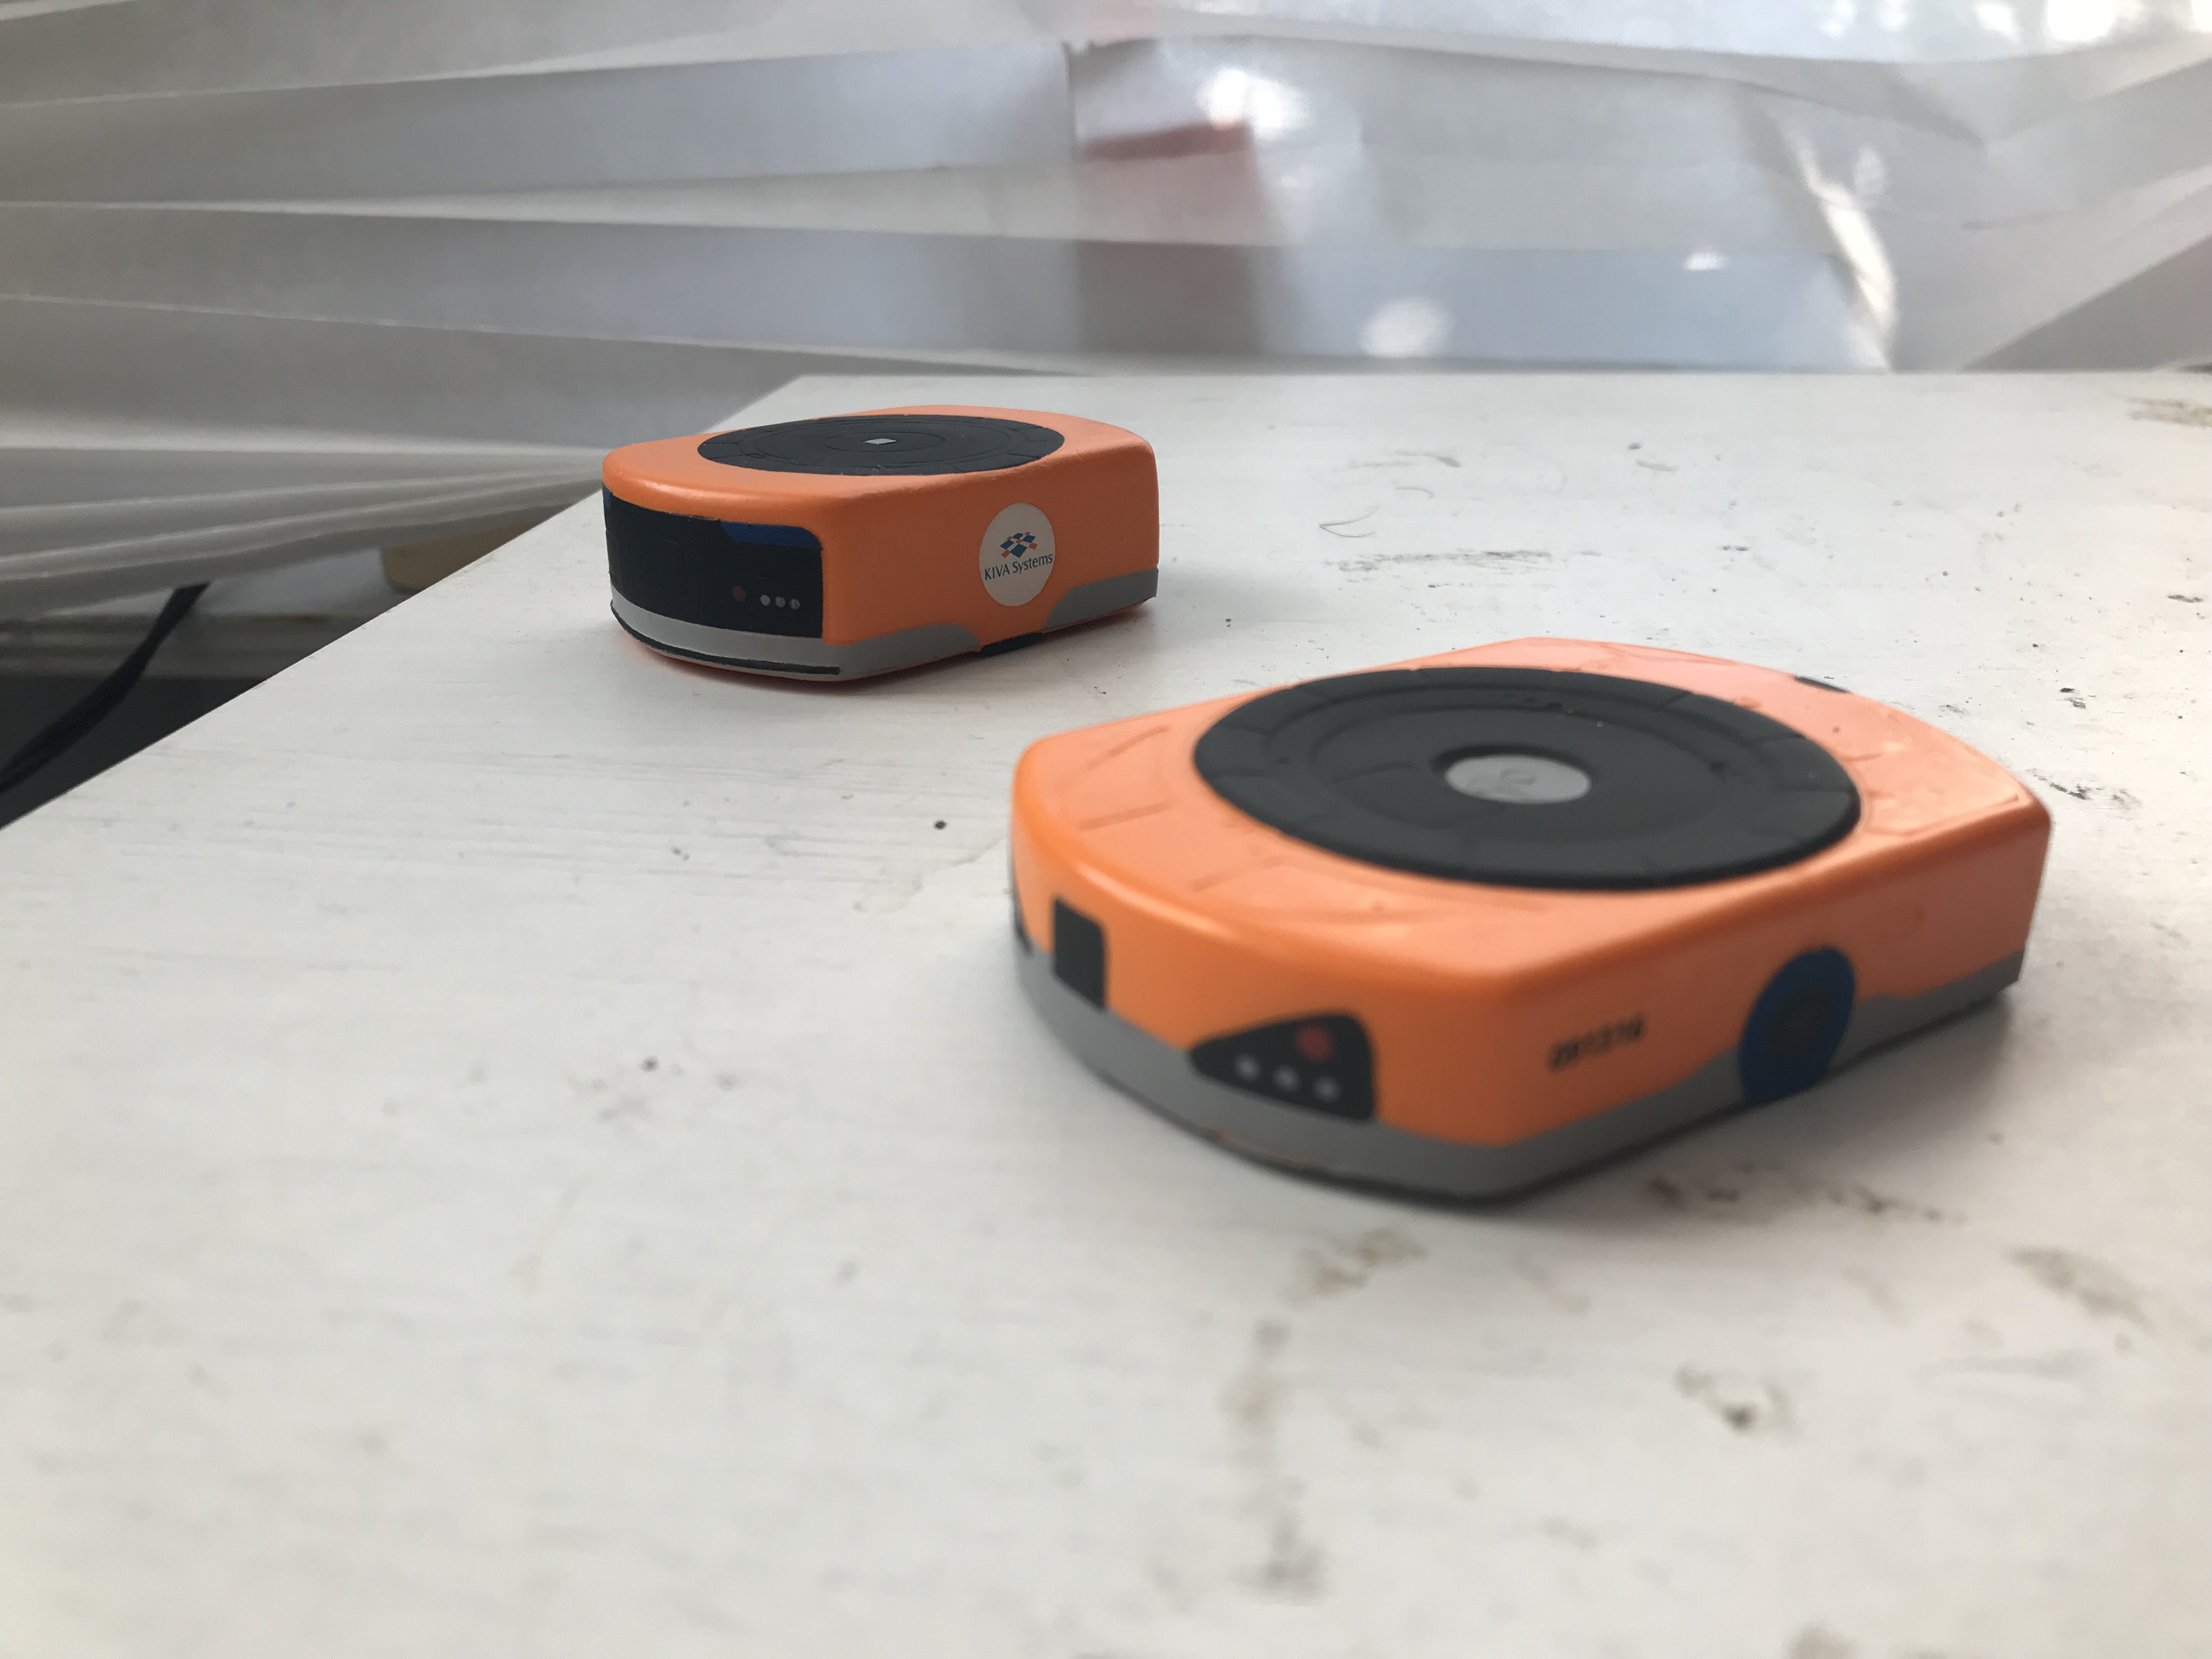amazon_bot: (968, 634, 2094, 1249), (557, 383, 1181, 697)
